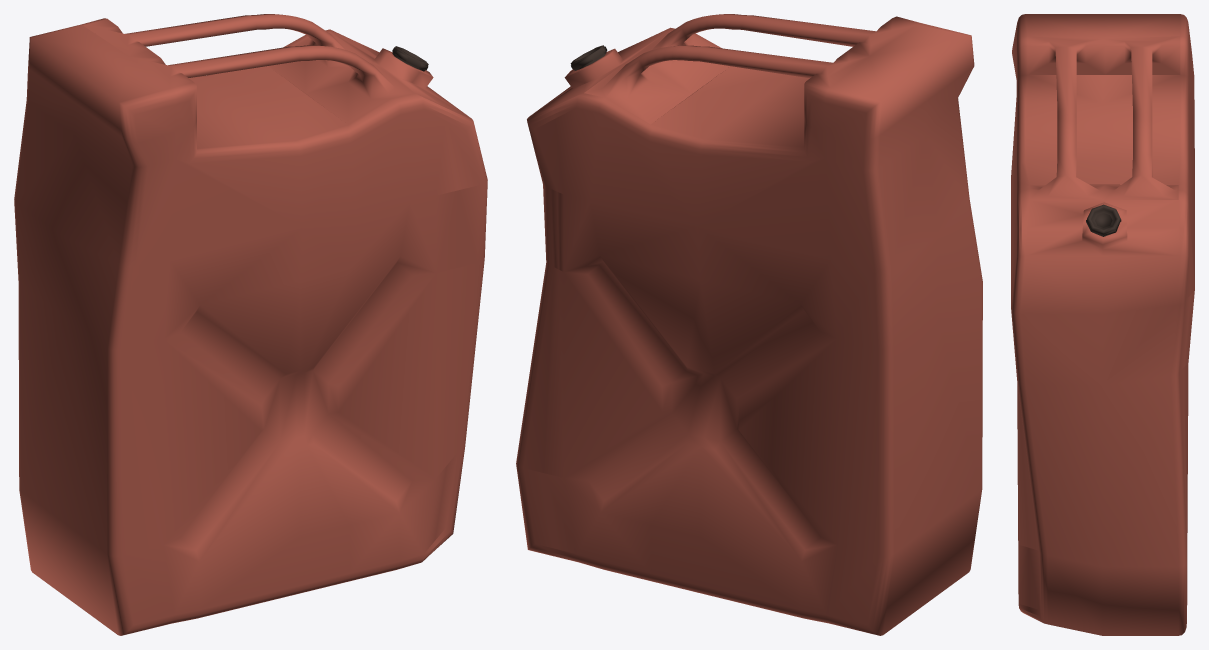
The model's file is Msh_Fuel_Env.fbx.
3 views of the same model, side by side, from view 1: azimuth 30°, elevation 25°; view 2: azimuth 150°, elevation 25°; view 3: azimuth 270°, elevation 25° (orthographic). The views are drawn at different scales.
Parts seen in each view (by area): view 1: Msh_Fuel_Env; view 2: Msh_Fuel_Env; view 3: Msh_Fuel_Env.
Boxes of the visible parts, x1,y1,x2,y2 form: Msh_Fuel_Env: [14, 14, 487, 635]; Msh_Fuel_Env: [516, 14, 982, 635]; Msh_Fuel_Env: [1011, 14, 1194, 635].
Bounding box in the file's own units: 30.37 × 14.55 × 41.23.
